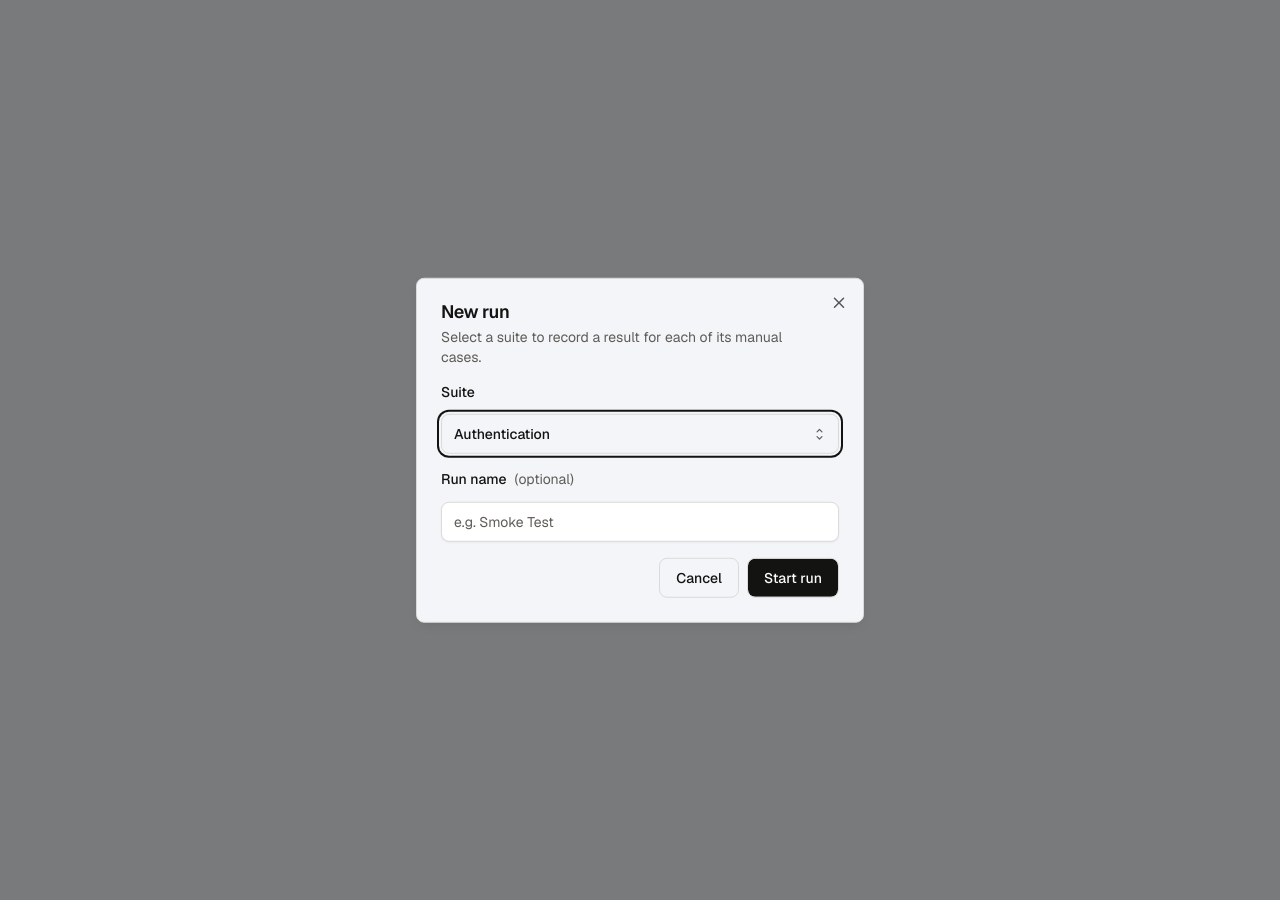
it: NewRunForm › while the run is starting › enables the submit button again and announces the error when the request fails
Click the button "Start run" at (793, 577), box left=747, top=557, right=839, bottom=597
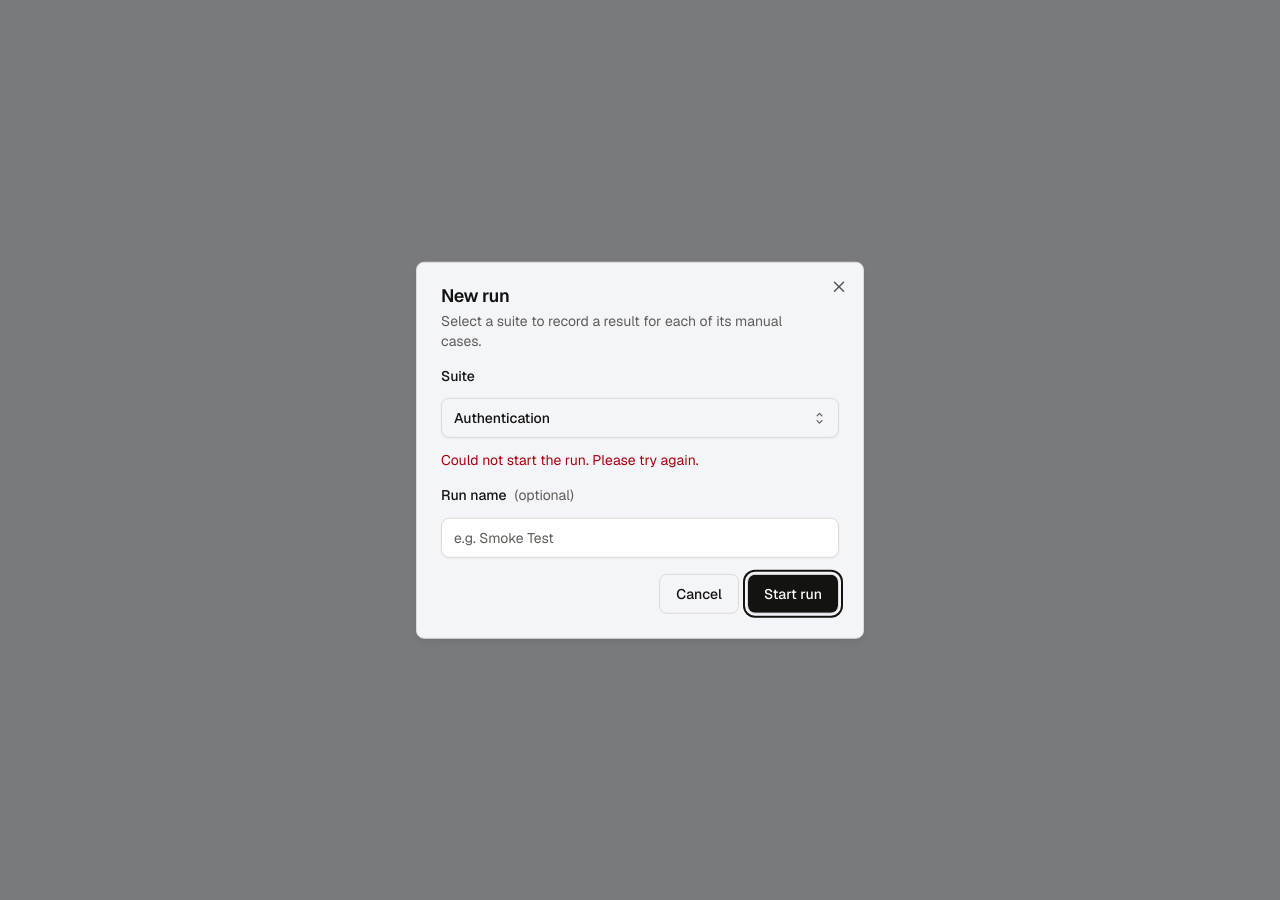
Expected: the button "Cancel" is enabled, left=659, top=573, right=739, bottom=613
Now the message reads "Could not start the run. Please try again.", box left=441, top=451, right=699, bottom=469
